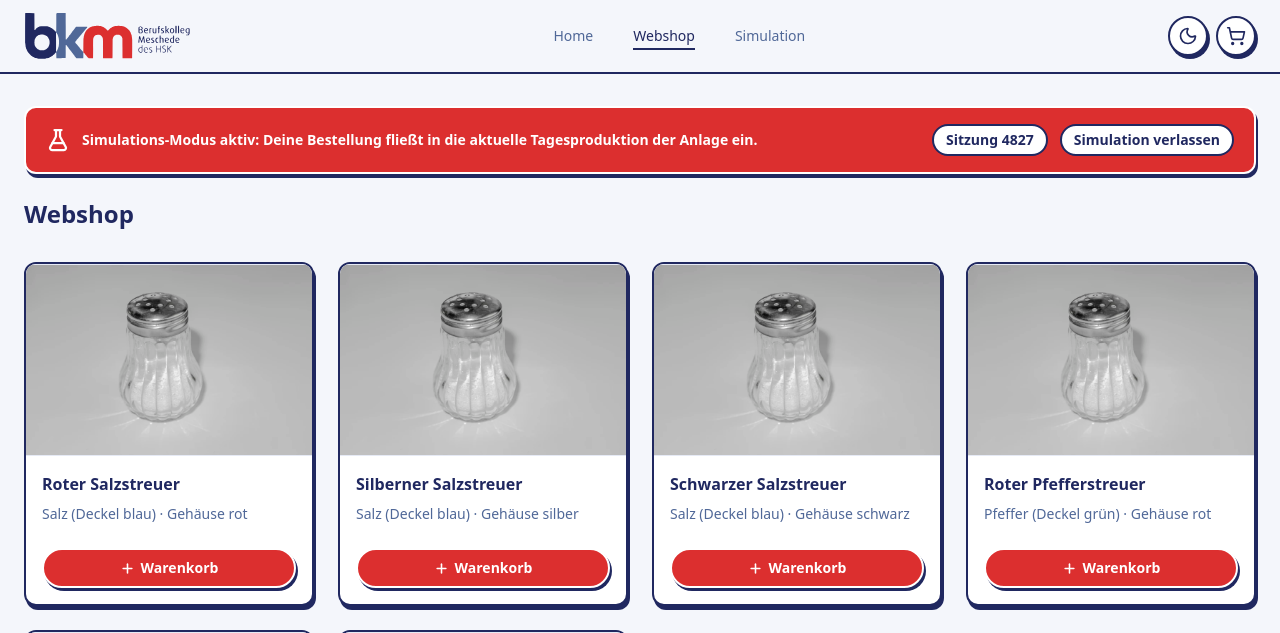
Scenario: simulation webshop (customer QR link) › keeps the simulation mode after navigating away and back
The width and height of the screenshot is (1280, 633).
Expected: the text "Simulations-Modus aktiv" is shown, [82, 130, 758, 149]
Click the button "Home" at (573, 36), box [553, 26, 593, 46]
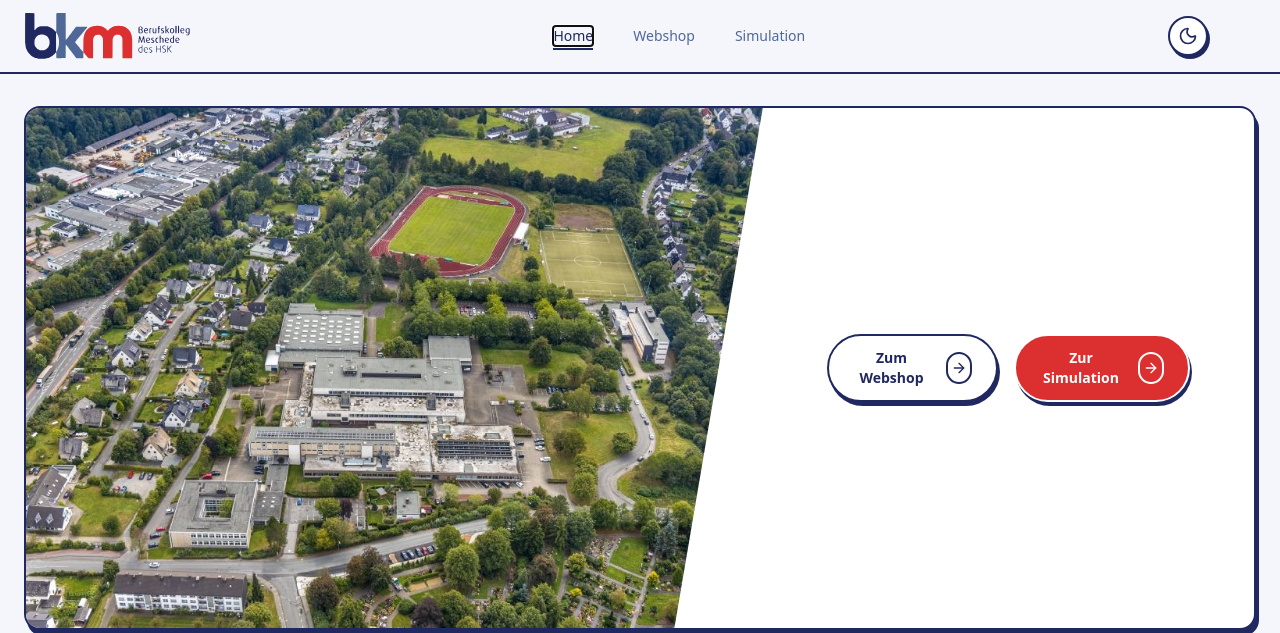
Click the button "Webshop" at (664, 36), box [633, 26, 695, 46]
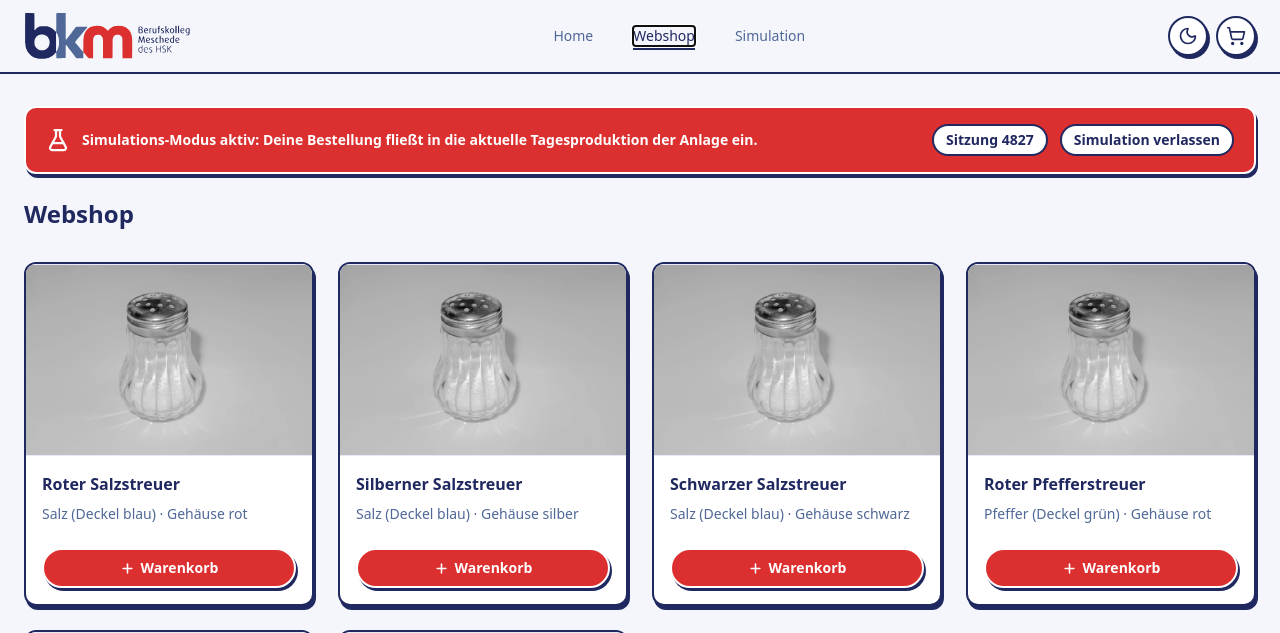
Expected: the message shows "Sitzung 4827", [24, 106, 1256, 174]
